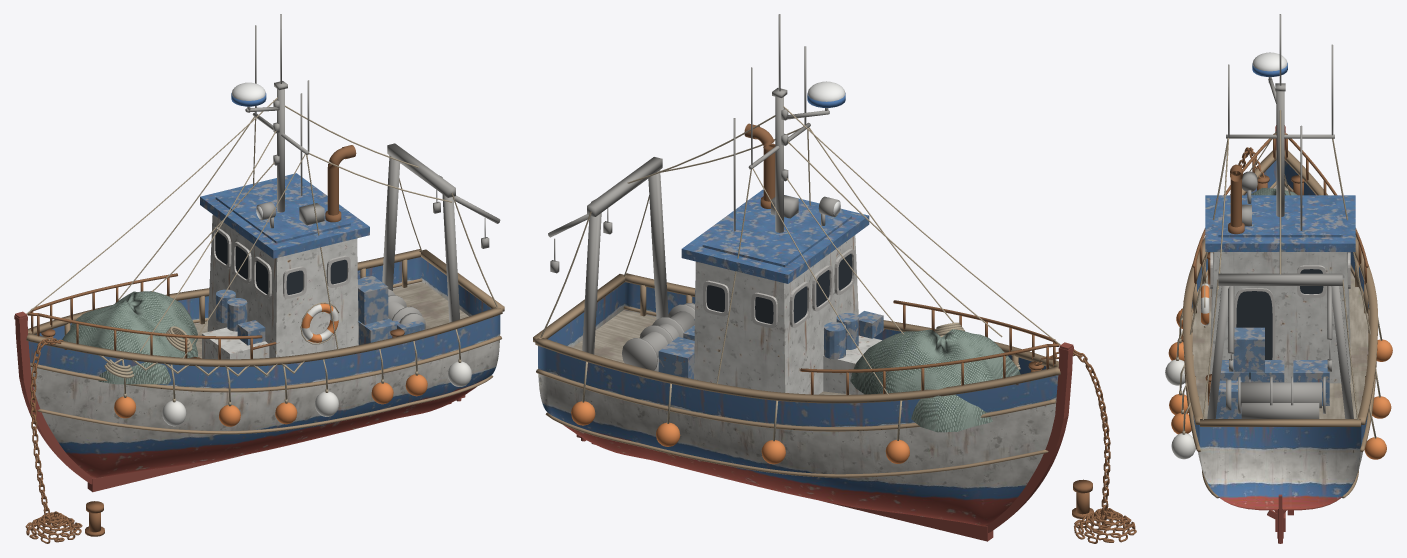
Rendered from trawler.glb.
3 renders of one model, left to right at view 1: azimuth 30°, elevation 25°; view 2: azimuth 150°, elevation 25°; view 3: azimuth 270°, elevation 25°, orthographic. The views are drawn at different scales.
Parts seen in each view (by area): view 1: Hull; view 2: Hull; view 3: Hull.
Boxes of the visible parts, x1,y1,x2,y2 form: Hull: (14,14,504,543); Hull: (533,14,1136,543); Hull: (1165,14,1392,543).
Size of the model in its own units: 1 by 0.8572 by 0.4007.
18 materials, 6 textured.
